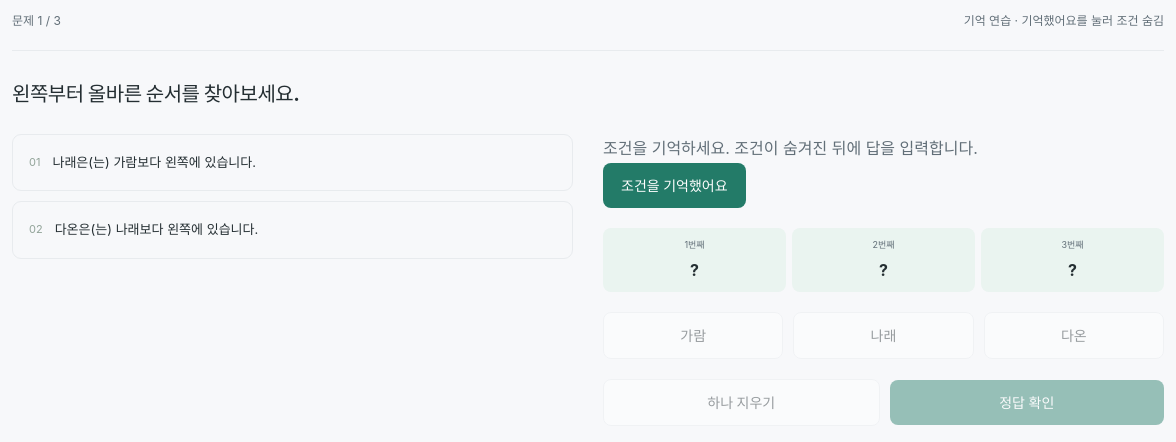
memory reasoning practice explicitly hides clues before answering
Expected: the button "가람" is disabled, [603, 312, 783, 359]
Click the button "조건을 기억했어요" at [674, 185], box [603, 163, 746, 208]
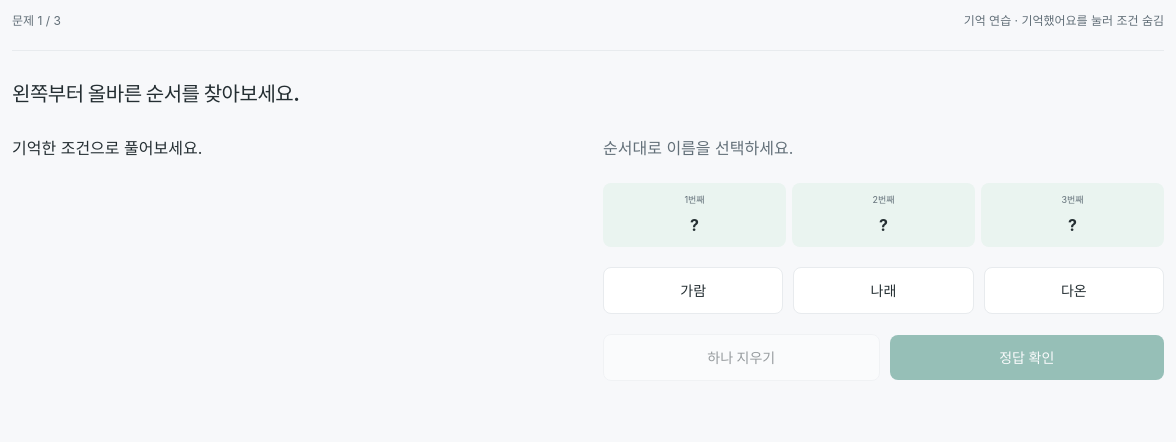
Expected: no elements with class "clue" are shown
Expected: the button "가람" is enabled, [603, 267, 783, 314]
